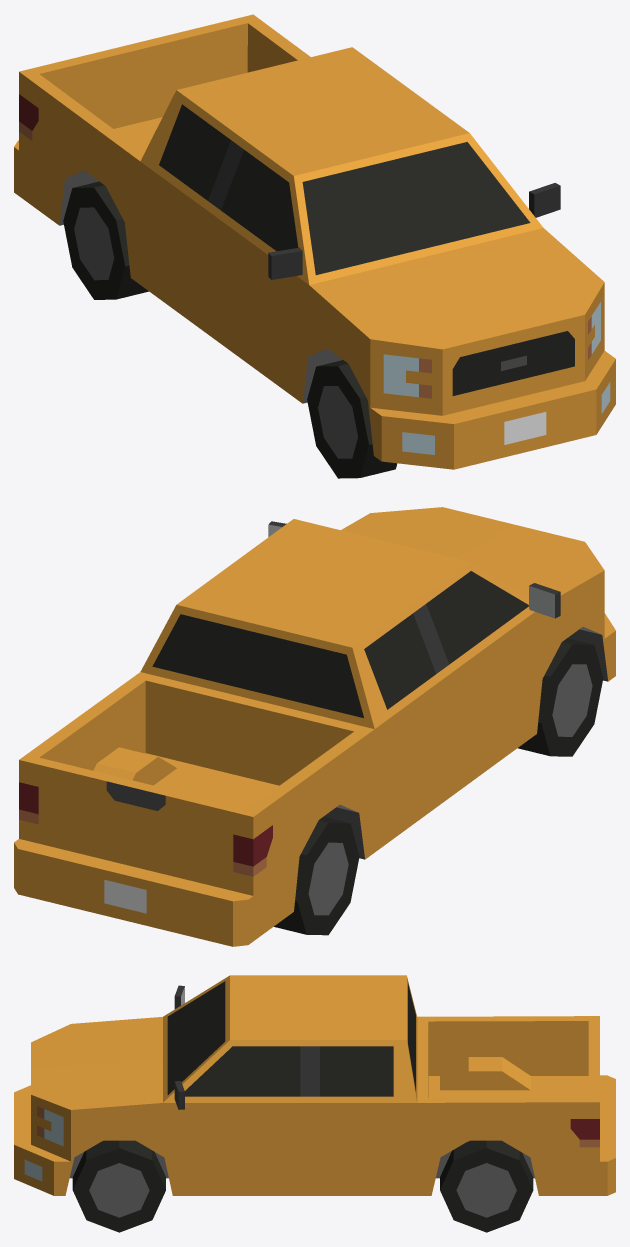
The model's file is Veh_Pickup_03_Yellow.obj.
The picture shows the model from 3 angles, top to bottom: view 1: azimuth 30°, elevation 25°; view 2: azimuth 150°, elevation 25°; view 3: azimuth 270°, elevation 25°; orthographic projection. The views are drawn at different scales.
Bounding box in the file's own units: 1.37 × 1.1 × 3.29.
